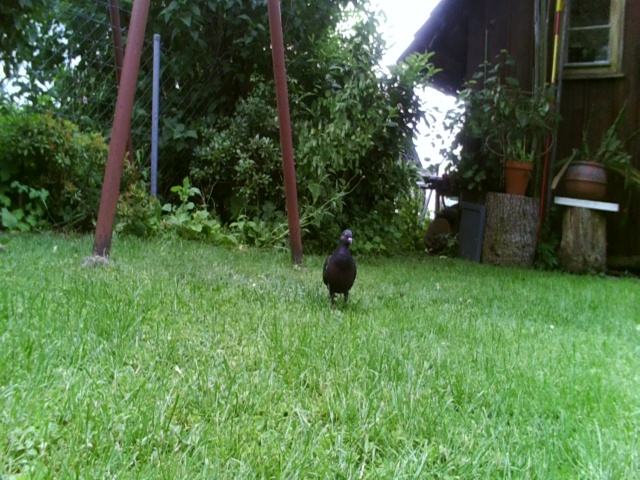Pigeon: (312, 227, 365, 313)
